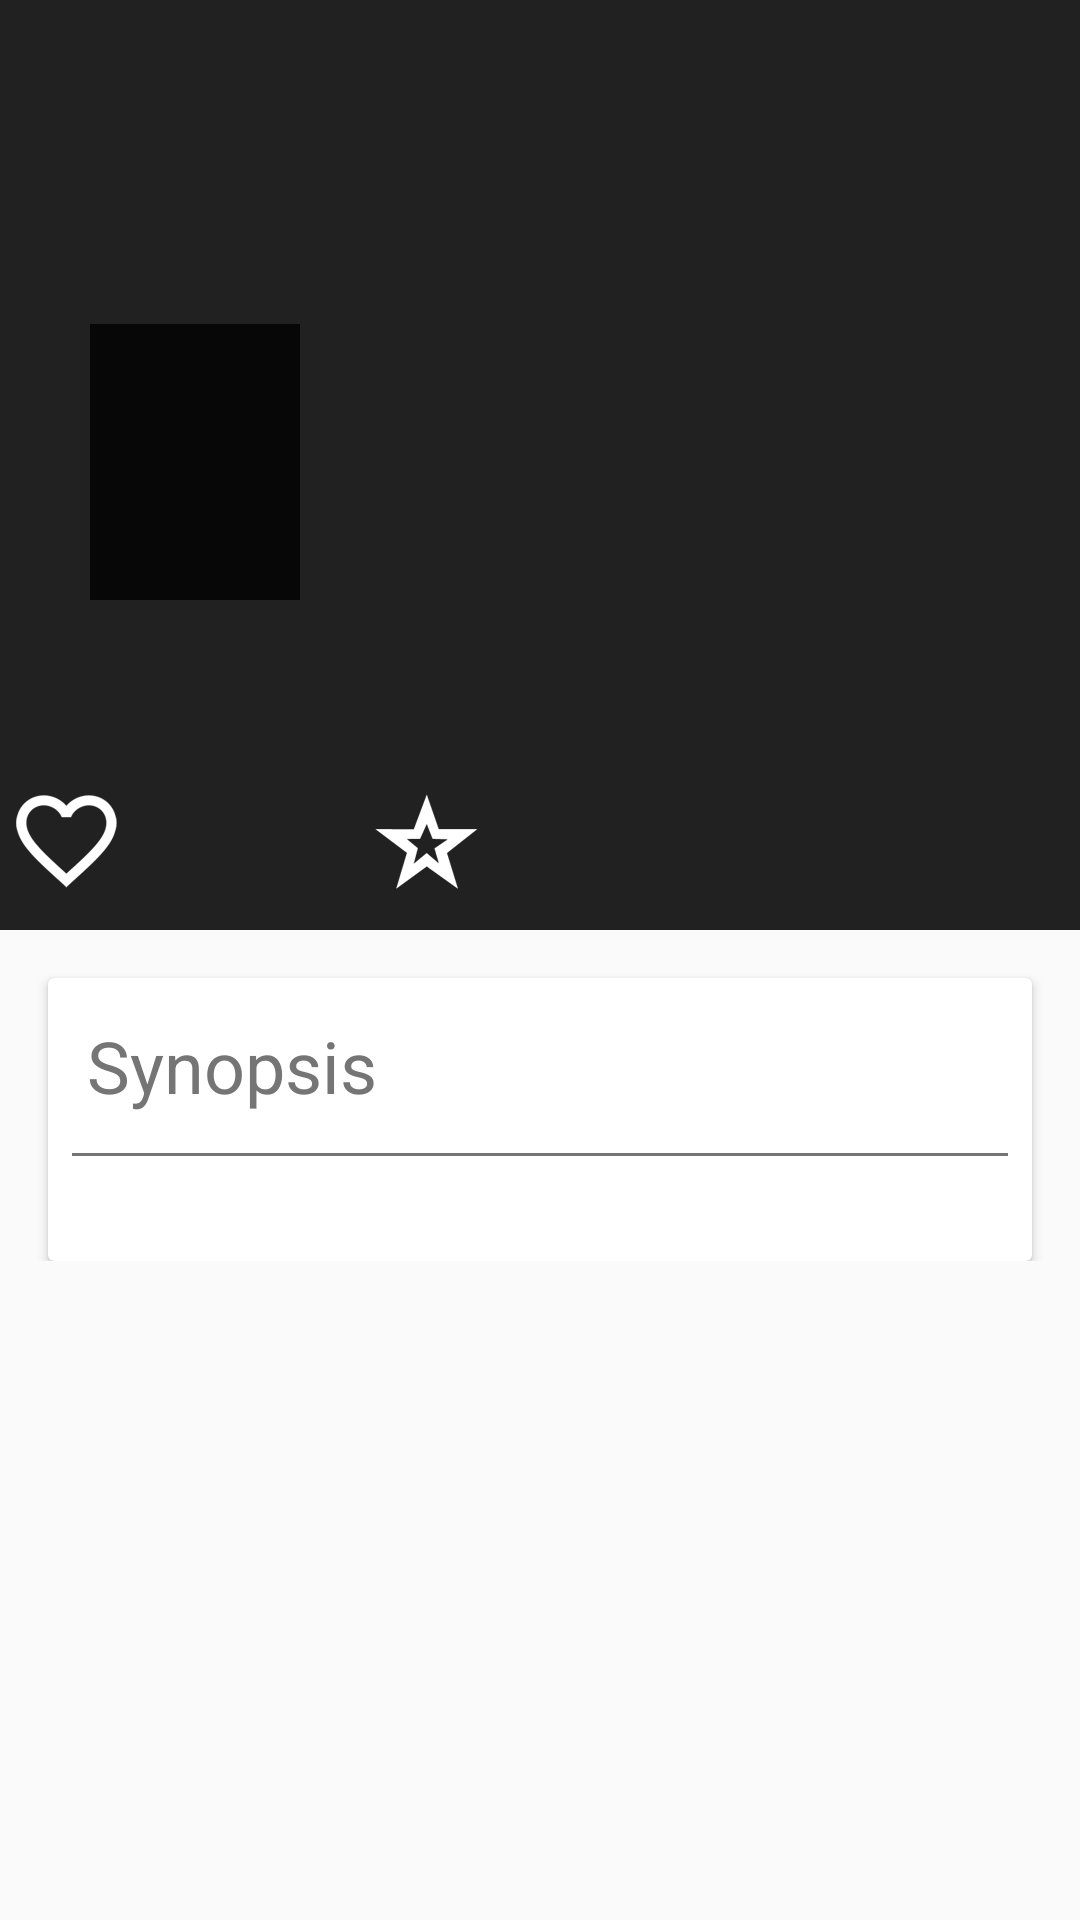

Icon click points for this 1080px x 1920px phone screenshot, format (x=x, y=y):
movie popular: (x=66, y=841)
movie rated: (x=426, y=842)
